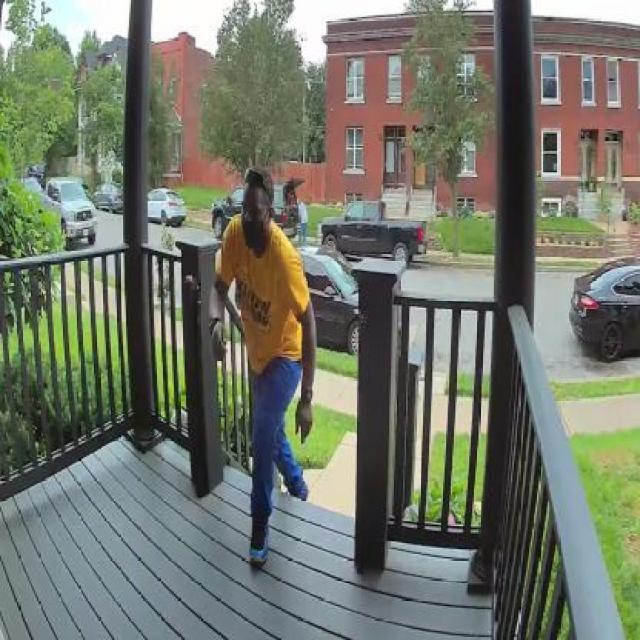person: (216, 168, 311, 574)
